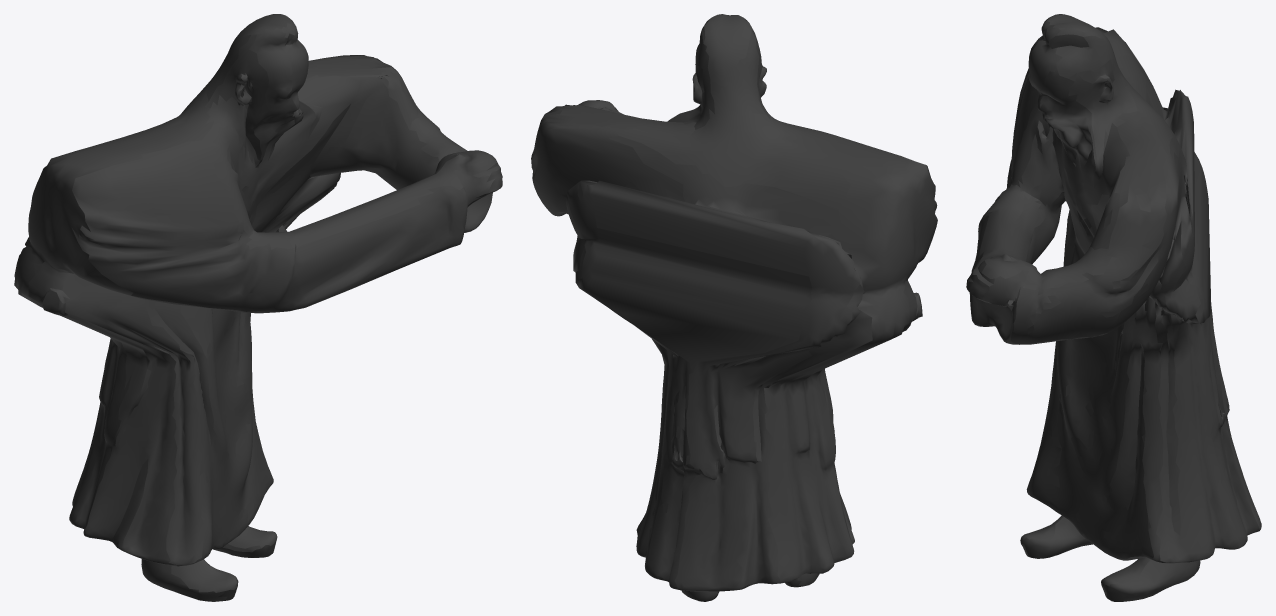
The model's file is MODEL-tpose.glb.
3 views of the same model, side by side, from view 1: azimuth 30°, elevation 25°; view 2: azimuth 150°, elevation 25°; view 3: azimuth 270°, elevation 25° (orthographic). The views are drawn at different scales.
Visible parts, largest first — view 1: geometry_0; view 2: geometry_0; view 3: geometry_0.
Part boxes in pixels (box(x1,y1,x2,y2)): geometry_0: box(14, 14, 502, 601); geometry_0: box(531, 14, 937, 601); geometry_0: box(966, 14, 1261, 601).
Size of the model in its own units: 1.41 by 1.8 by 0.8422.
Materials: 1 (1 with a texture image).
